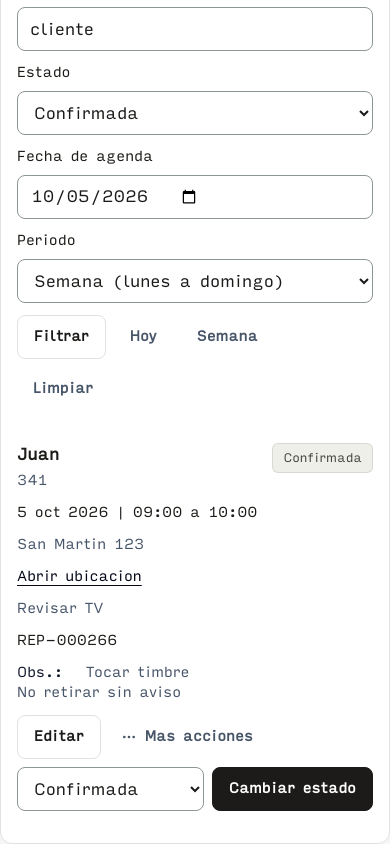
it: one visit workflow › edits a saved visit without exposing assignment or losing notes, REP or schedule
The width and height of the screenshot is (390, 844).
(page scrolled)
Click the button "Editar". click: (59, 737)
box: left=17, top=715, right=101, bottom=759
(page scrolled)
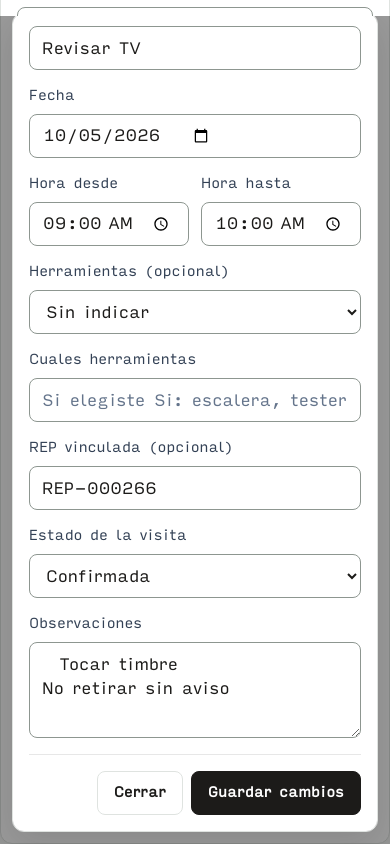
Result: the dropdown labelled "Estado de la visita" shows "Confirmada" at left=29, top=554, right=361, bottom=598
Result: the field labelled "REP vinculada (opcional)" holds "REP-000266" at left=29, top=466, right=361, bottom=510
Result: the time field labelled "Hora desde" holds "09:00" at left=29, top=202, right=189, bottom=246
